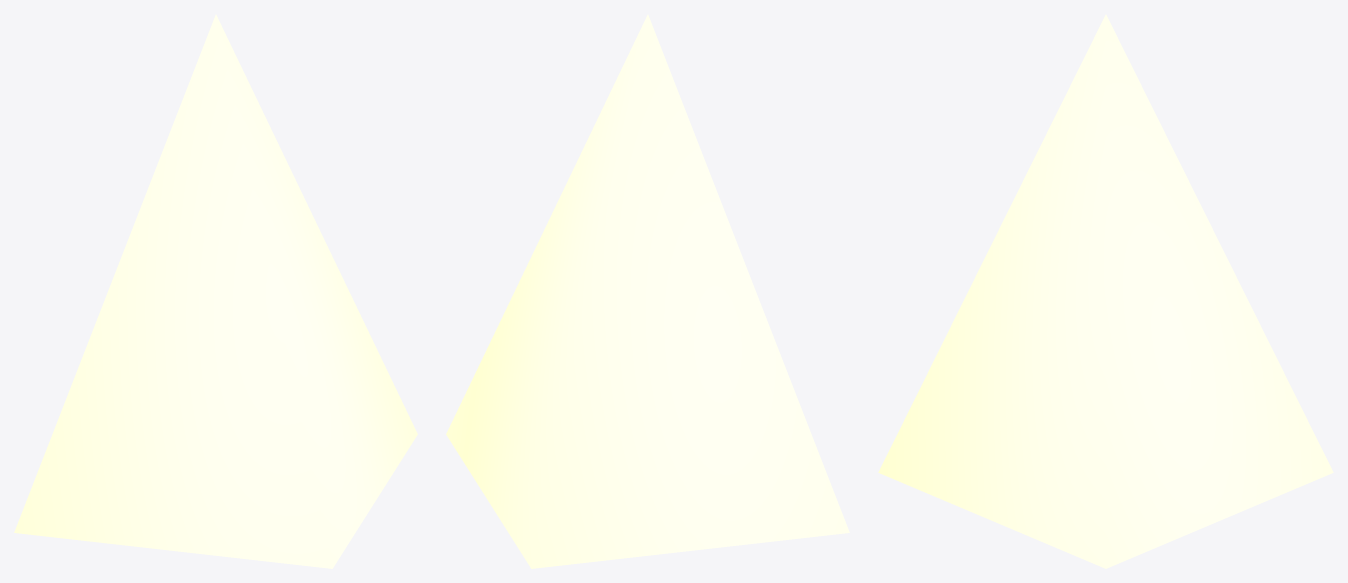
Rendered from SM_cv_flame_gold.glb.
3 renders of one model, left to right at view 1: azimuth 30°, elevation 25°; view 2: azimuth 150°, elevation 25°; view 3: azimuth 270°, elevation 25°, orthographic. The views are drawn at different scales.
Parts seen in each view (by area): view 1: SM_cv_flame_gold; view 2: SM_cv_flame_gold; view 3: SM_cv_flame_gold.
Boxes of the visible parts, x1,y1,x2,y2 form: SM_cv_flame_gold: [14, 14, 417, 568]; SM_cv_flame_gold: [446, 14, 849, 568]; SM_cv_flame_gold: [878, 14, 1333, 568].
Size of the model in its own units: 0.9 by 1 by 0.9.
